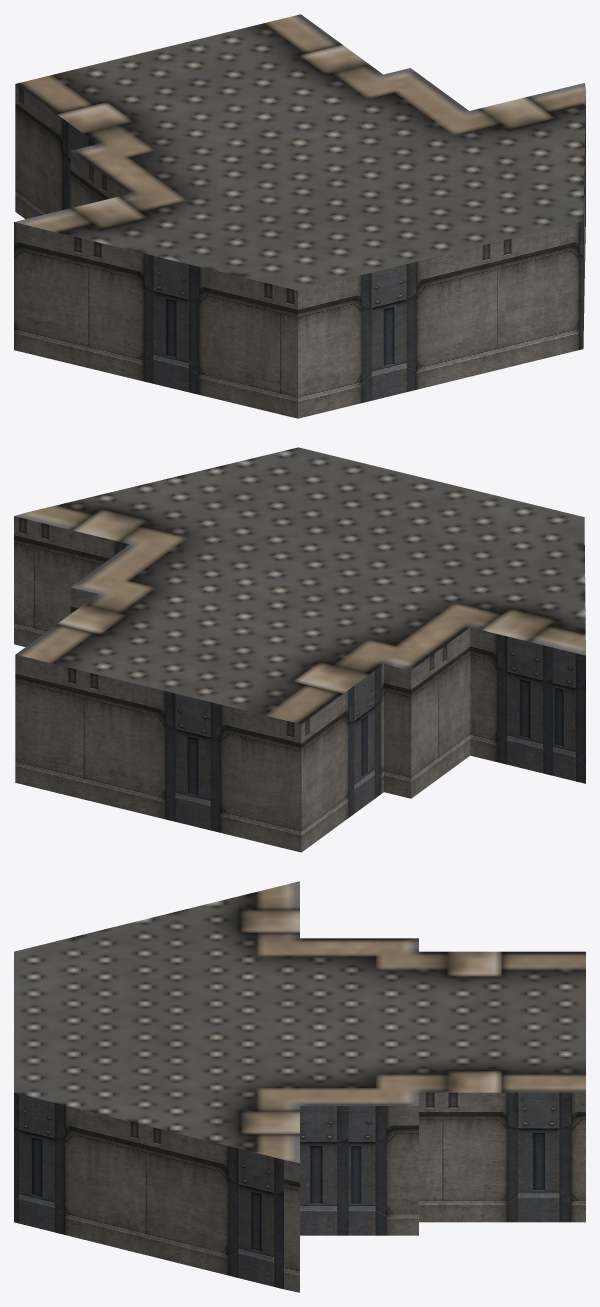
File: building_heavy_a_29.glb
3 renders of one model, top to bottom at view 1: azimuth 30°, elevation 25°; view 2: azimuth 150°, elevation 25°; view 3: azimuth 270°, elevation 25°, orthographic.
Parts seen in each view (by area): view 1: buildings/saxarba/building_heavy/building_heavy_a_29; view 2: buildings/saxarba/building_heavy/building_heavy_a_29; view 3: buildings/saxarba/building_heavy/building_heavy_a_29.
Boxes of the visible parts, x1,y1,x2,y2 form: buildings/saxarba/building_heavy/building_heavy_a_29: (14, 14, 585, 418); buildings/saxarba/building_heavy/building_heavy_a_29: (14, 447, 585, 852); buildings/saxarba/building_heavy/building_heavy_a_29: (14, 881, 585, 1292).
Size of the model in its own units: 84 by 18 by 72.
